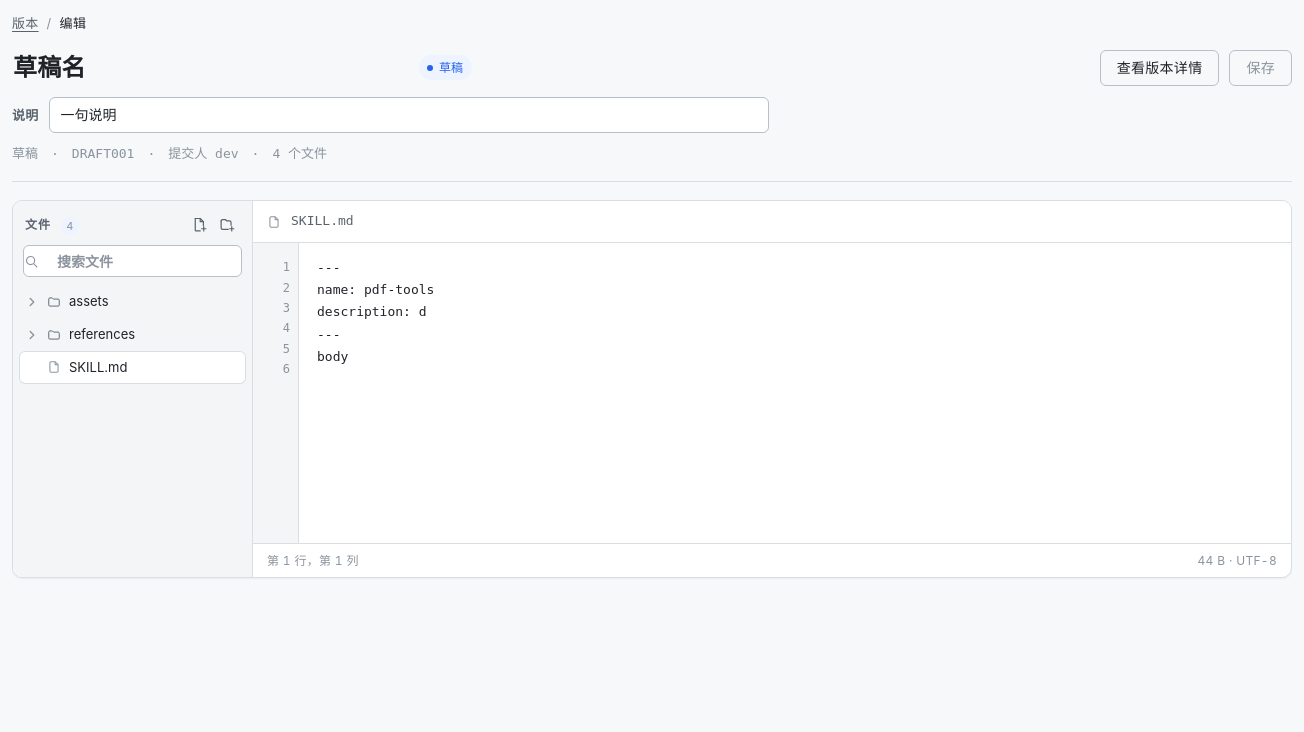
Test: VersionEditorPage · a draft › names a draft by its version code and has no number to show
The width and height of the screenshot is (1304, 732).
Replace the text in the text box with id "edText" with "same ": (795, 393) [299, 243, 1291, 544]
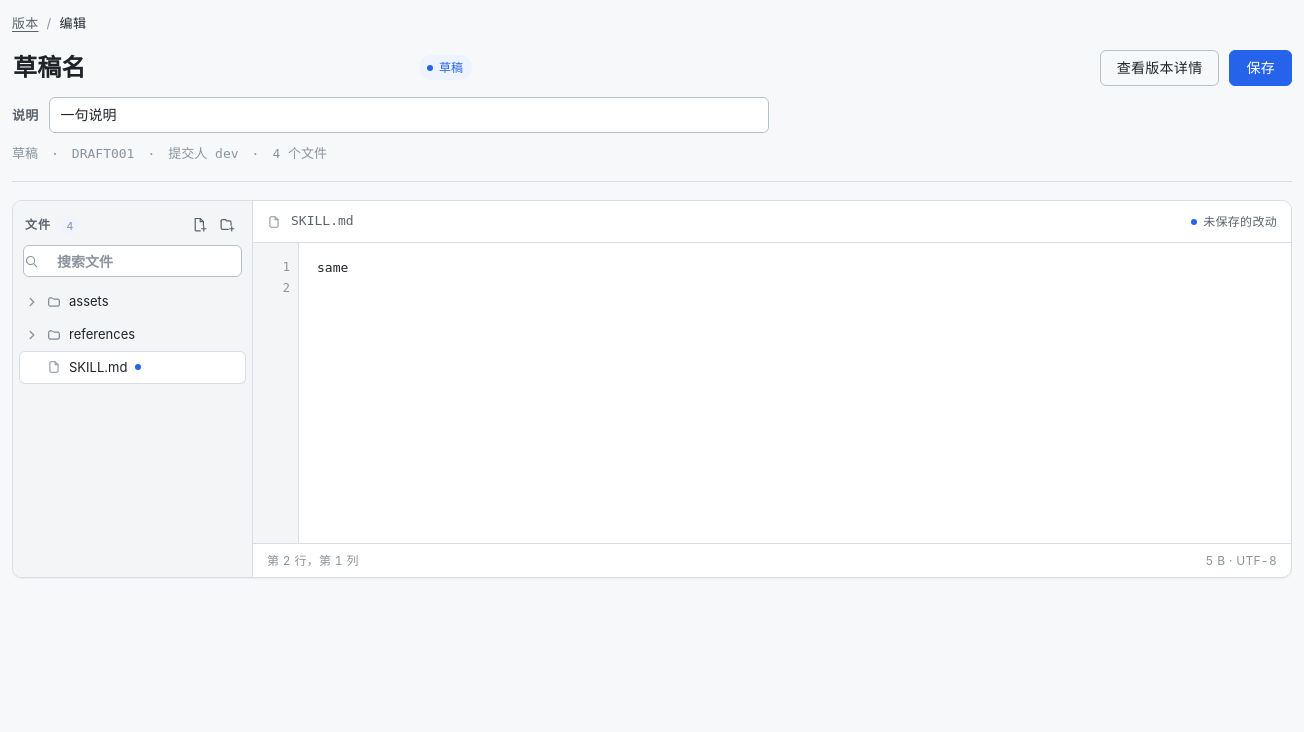
Click the button with id "edSave": (1261, 68) [1229, 50, 1292, 86]
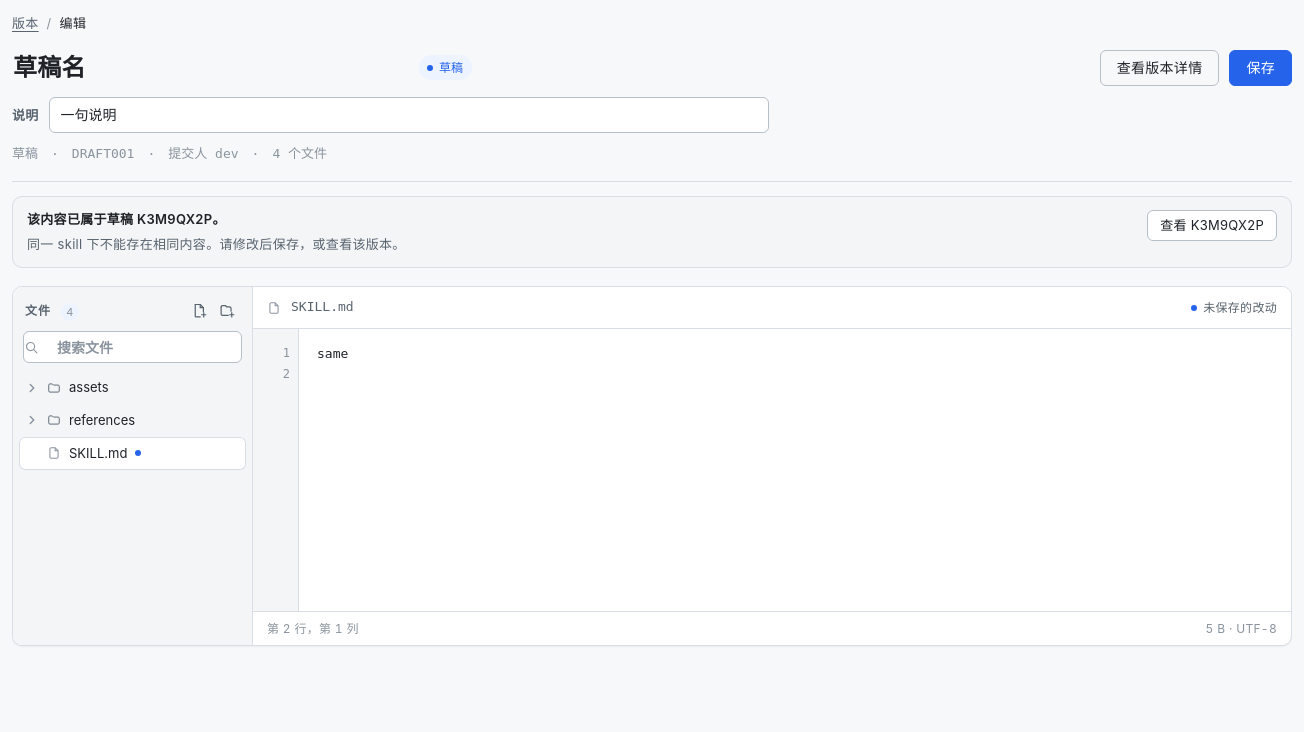
Check: the text with id "edDuplicateTitle" reads "该内容已属于草稿 K3M9QX2P。", box [27, 212, 226, 228]
Check: the link with id "edDuplicateLink" reads "查看 K3M9QX2P", box [1147, 210, 1277, 241]
